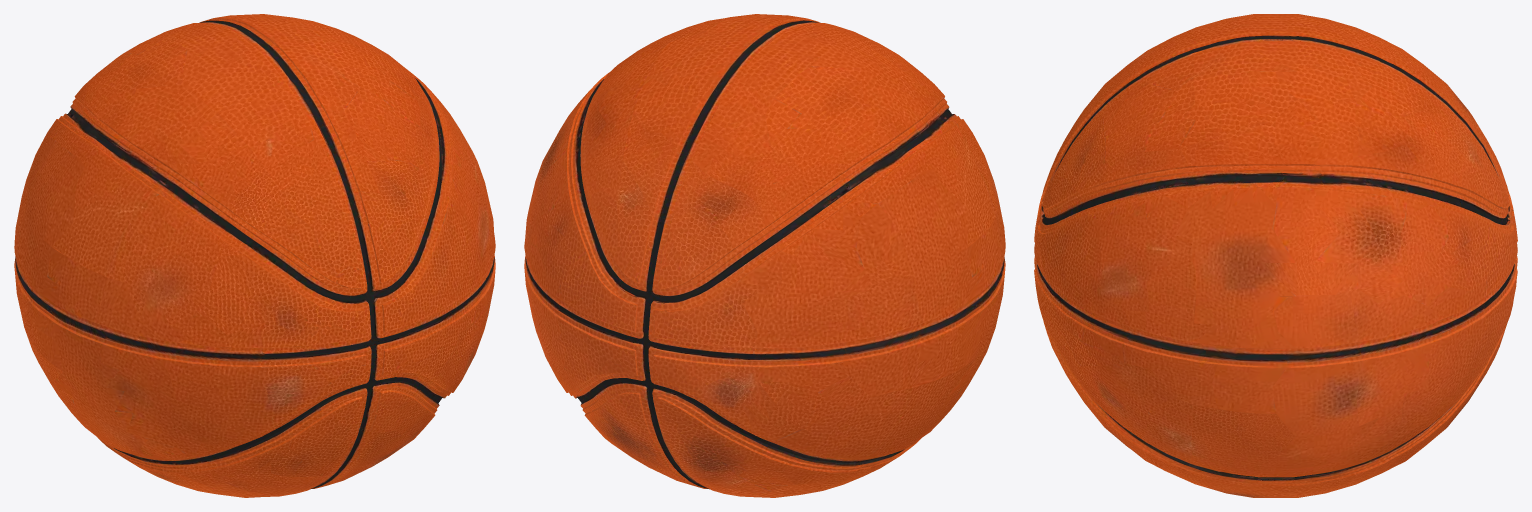
The model's file is ball.glb.
3 renders of one model, left to right at view 1: azimuth 30°, elevation 25°; view 2: azimuth 150°, elevation 25°; view 3: azimuth 270°, elevation 25°, orthographic.
Visible parts, largest first — view 1: Mesh_0; view 2: Mesh_0; view 3: Mesh_0.
Boxes of the visible parts, left/top/right/bottom form: Mesh_0: left=14, top=14, right=495, bottom=497; Mesh_0: left=524, top=14, right=1005, bottom=497; Mesh_0: left=1034, top=14, right=1517, bottom=497.
Bounding box in the file's own units: 1.9 × 1.9 × 1.9.
1 material, 1 textured.
